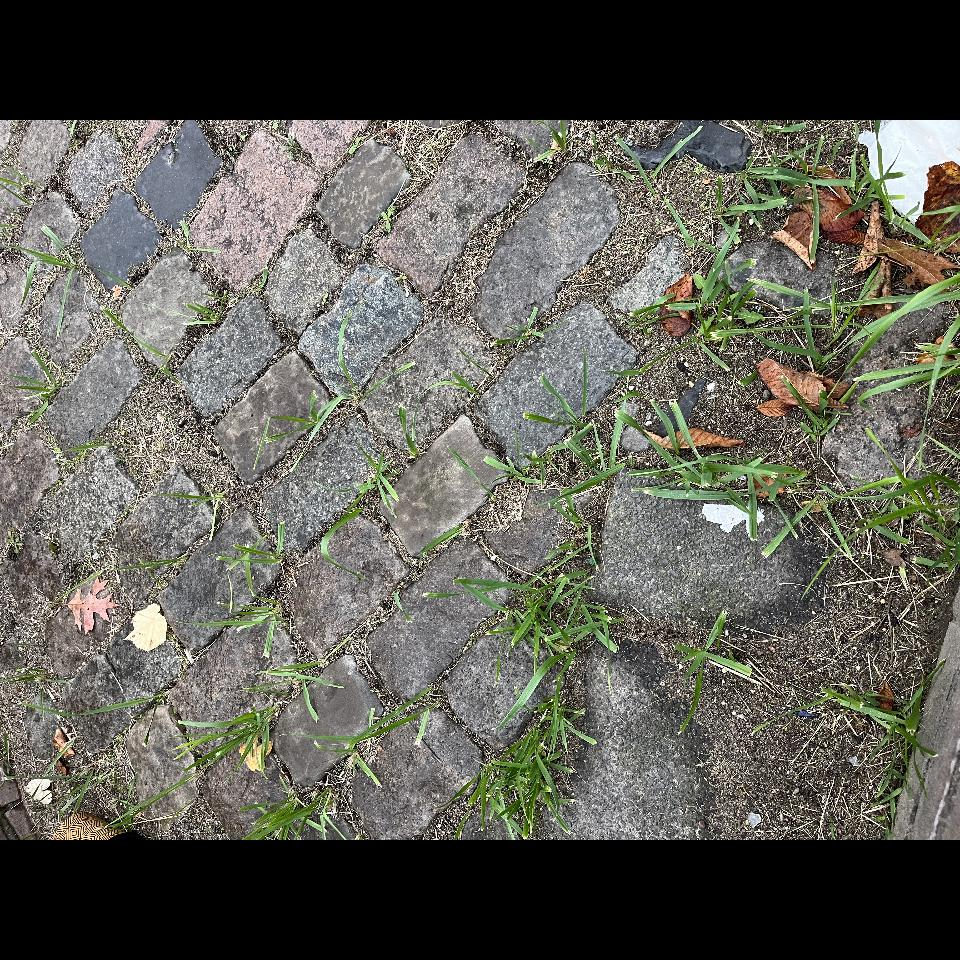weed: (0, 574, 285, 742), (356, 604, 465, 723), (341, 747, 406, 927), (262, 440, 389, 519), (371, 374, 448, 473), (499, 814, 602, 882), (109, 794, 195, 871), (68, 296, 133, 397), (510, 135, 613, 198), (338, 668, 421, 745), (183, 307, 241, 405), (463, 223, 530, 293), (417, 124, 488, 182), (24, 154, 70, 217), (124, 171, 146, 283), (152, 376, 177, 463), (262, 337, 295, 402), (515, 294, 537, 339), (157, 120, 172, 186), (192, 827, 227, 846), (358, 714, 380, 736), (289, 396, 316, 404), (121, 427, 141, 436), (130, 146, 136, 161)
